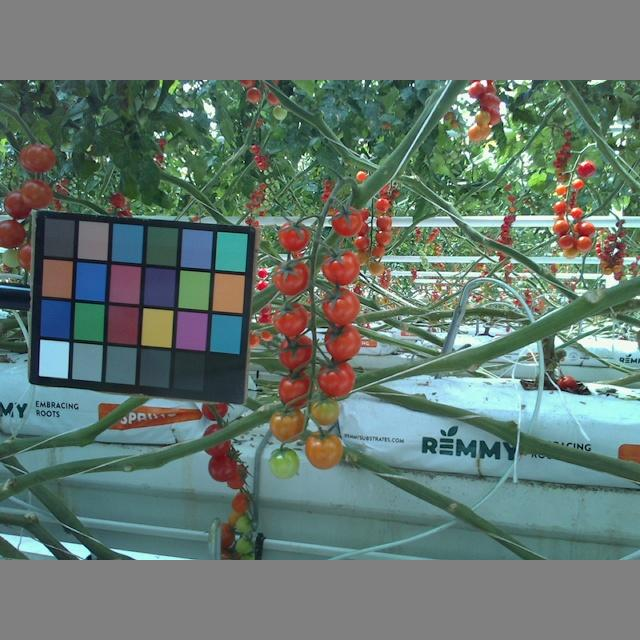green: (268, 445, 300, 478), (310, 395, 343, 426), (234, 534, 255, 555), (235, 515, 256, 534)
pink: (323, 320, 363, 361), (321, 288, 361, 325), (267, 408, 308, 443), (277, 371, 311, 413), (280, 333, 317, 371), (305, 433, 344, 469), (321, 248, 359, 284), (272, 301, 308, 337), (15, 143, 56, 174), (316, 363, 357, 394), (278, 262, 316, 295), (329, 205, 364, 239), (277, 218, 311, 251), (21, 176, 52, 211), (2, 192, 37, 218), (1, 217, 25, 251), (231, 489, 250, 513)
red: (199, 424, 233, 457), (208, 451, 236, 483)
